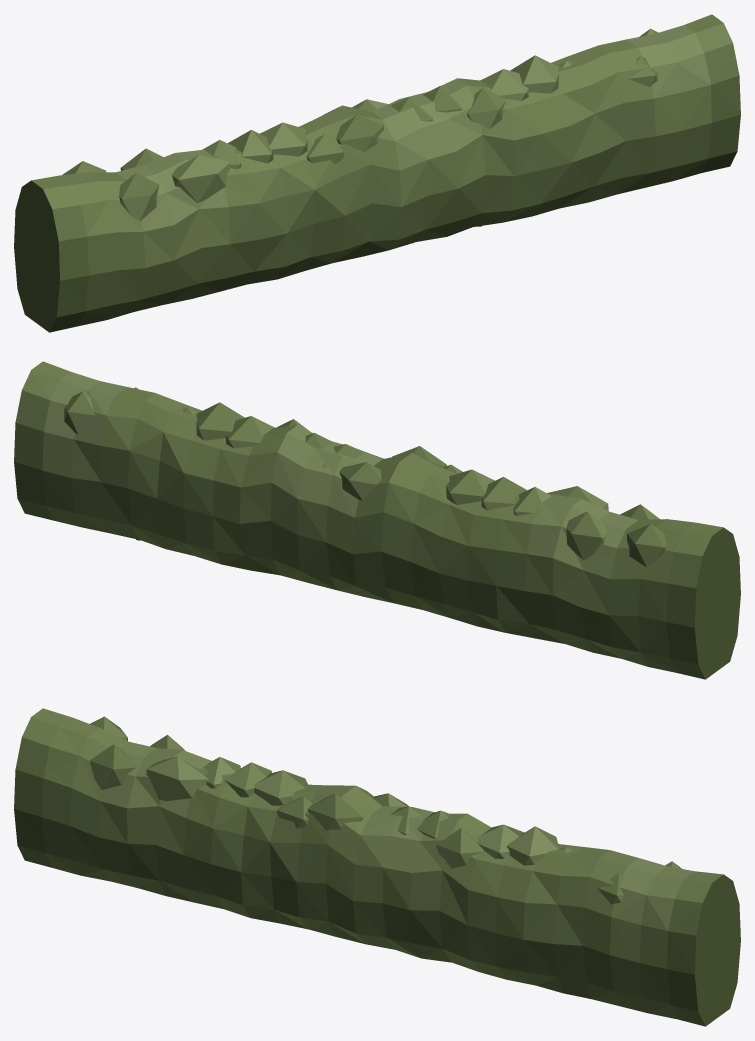
The model's file is lwf_hedge_straight_8m_a_v1.glb.
The picture shows the model from 3 angles, top to bottom: view 1: azimuth 30°, elevation 25°; view 2: azimuth 150°, elevation 25°; view 3: azimuth 330°, elevation 25°; orthographic projection.
Parts seen in each view (by area): view 1: lwf_hedge_straight_8m_a_v1; view 2: lwf_hedge_straight_8m_a_v1; view 3: lwf_hedge_straight_8m_a_v1.
Boxes of the visible parts, x1,y1,x2,y2 form: lwf_hedge_straight_8m_a_v1: (14,14,740,332); lwf_hedge_straight_8m_a_v1: (14,361,740,679); lwf_hedge_straight_8m_a_v1: (14,708,740,1026).
Bounding box in the file's own units: 8 × 1.76 × 1.
Materials: 1 (1 with a texture image).
